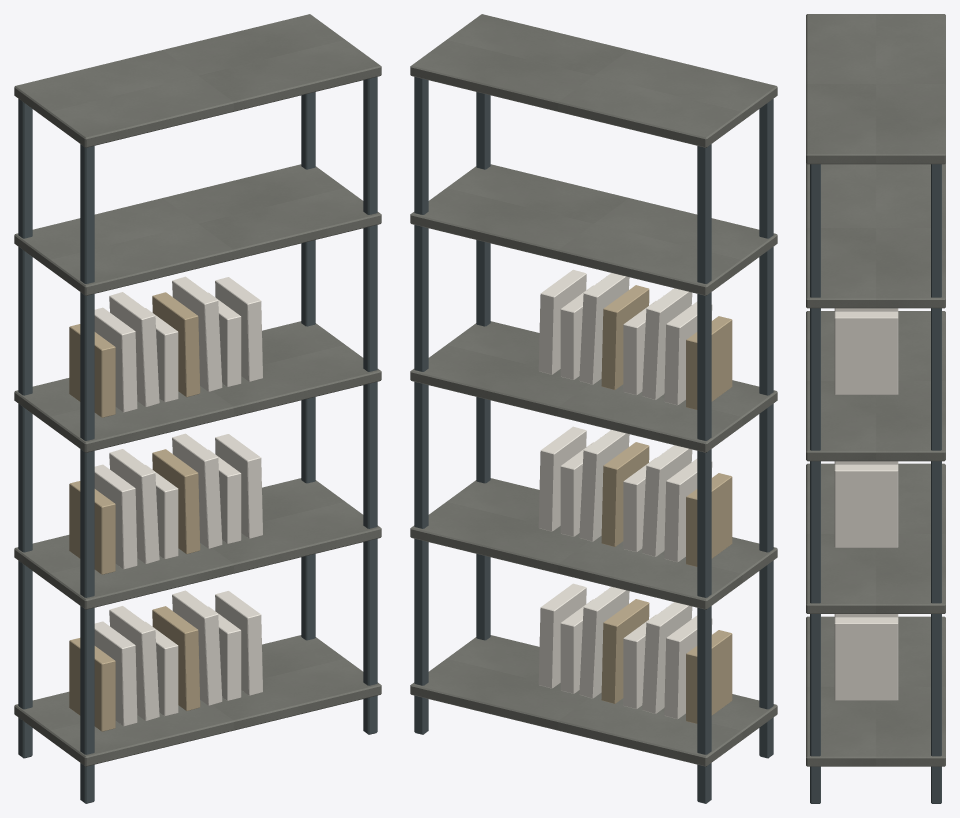
Rendered from Bookcase.glb.
The picture shows the model from 3 angles, left to right: view 1: azimuth 30°, elevation 25°; view 2: azimuth 150°, elevation 25°; view 3: azimuth 270°, elevation 25°; orthographic projection. The views are drawn at different scales.
Visible parts, largest first — view 1: Bookcase__GraphiteLaminate__mesh, Bookcase__WarmPaper__mesh, Bookcase__BlackenedSteel__mesh, Bookcase__AgedBrass__mesh; view 2: Bookcase__GraphiteLaminate__mesh, Bookcase__WarmPaper__mesh, Bookcase__BlackenedSteel__mesh, Bookcase__AgedBrass__mesh; view 3: Bookcase__GraphiteLaminate__mesh, Bookcase__WarmPaper__mesh, Bookcase__BlackenedSteel__mesh.
Boxes of the visible parts, <box> form: Bookcase__GraphiteLaminate__mesh: <box>14,14,381,766</box>; Bookcase__WarmPaper__mesh: <box>94,276,262,726</box>; Bookcase__BlackenedSteel__mesh: <box>18,77,377,803</box>; Bookcase__AgedBrass__mesh: <box>69,292,200,731</box>; Bookcase__GraphiteLaminate__mesh: <box>410,14,777,766</box>; Bookcase__WarmPaper__mesh: <box>538,269,712,719</box>; Bookcase__BlackenedSteel__mesh: <box>414,77,773,803</box>; Bookcase__AgedBrass__mesh: <box>601,285,732,723</box>; Bookcase__GraphiteLaminate__mesh: <box>806,14,945,766</box>; Bookcase__WarmPaper__mesh: <box>834,308,898,700</box>; Bookcase__BlackenedSteel__mesh: <box>810,164,941,803</box>.
Bounding box in the file's own units: 1.05 × 2.26 × 0.44.
Materials: 4 (1 with a texture image).
